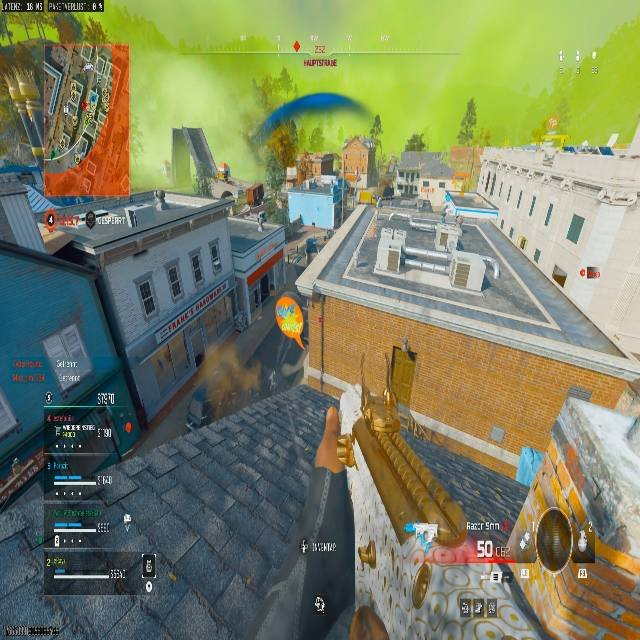player: (217, 162, 232, 183), (257, 211, 267, 231)
